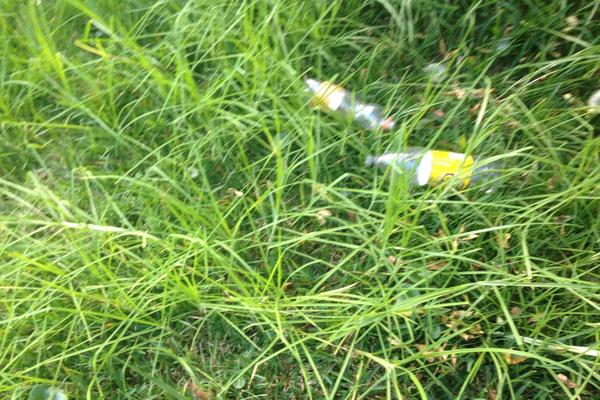Plastic Bottle: (364, 149, 497, 195), (297, 79, 393, 132)
